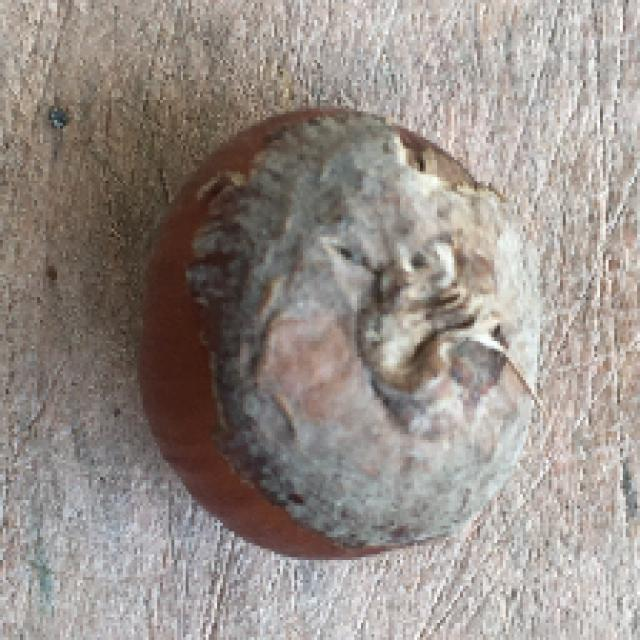damagedHazelnut: (124, 93, 538, 563)
